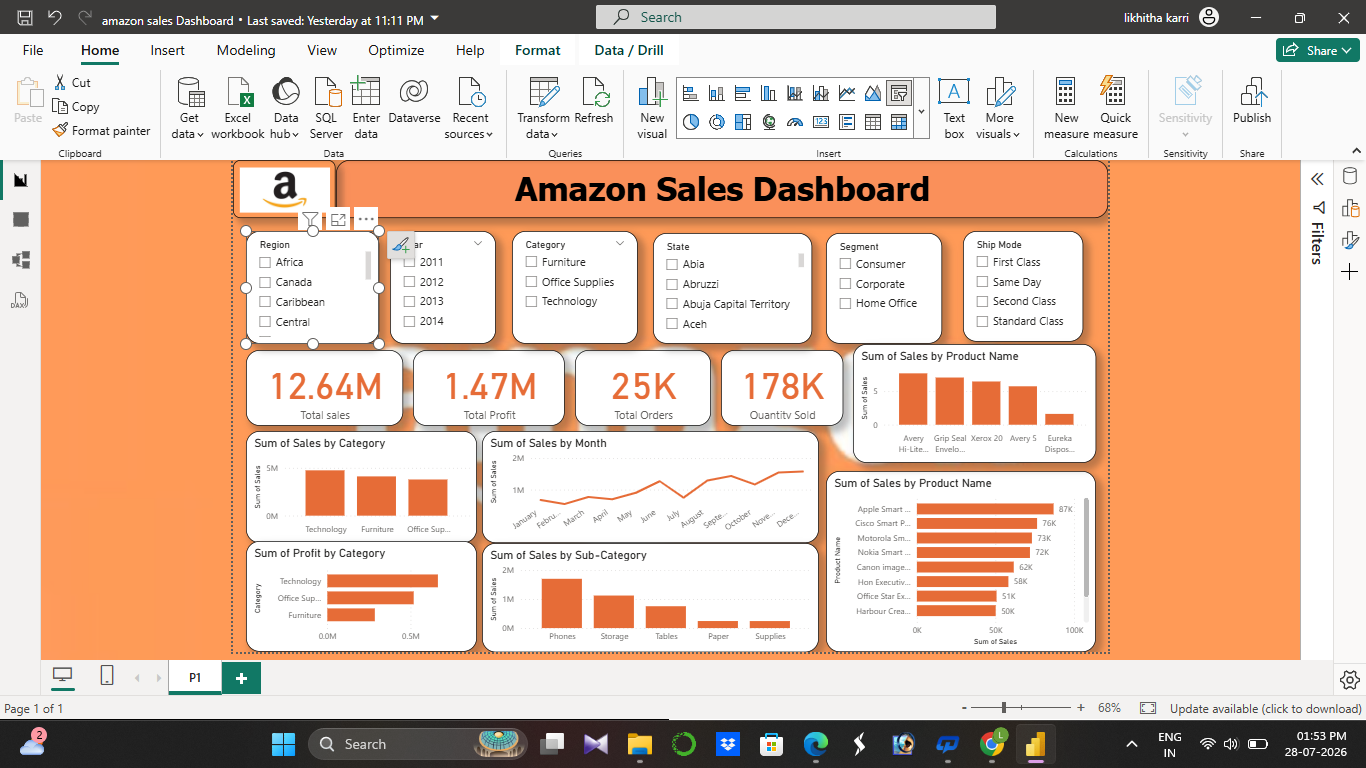

The page's visual inventory and layout, read from the dashboard file:
{"tool":"powerbi","page":{"name":"P1","canvas":[1280,720],"ordinal":0},"visuals":[{"type":"textbox","box":[150,0,1129.7,85.1],"z":0},{"type":"image","box":[0,0,150,85.1],"z":1000},{"type":"card","fields":{"Values":["Orders.Total sales"]},"box":[19,278,229.8,111.2],"z":2000},{"type":"card","fields":{"Values":["Orders.Total Profit"]},"box":[263.4,278,222.4,111.2],"z":3000},{"type":"card","fields":{"Values":["Orders.Total Orders"]},"box":[500.5,278,199,111.2],"z":4000},{"type":"card","fields":{"Values":["Orders.Quantity Sold"]},"box":[714.1,278,178.5,111.2],"z":5000},{"type":"clusteredColumnChart","fields":{"Category":["Orders.Category"],"Y":["Sum(Orders.Sales)"]},"box":[19,396.6,338,163.9],"z":6000},{"type":"barChart","fields":{"Y":["Sum(Orders.Profit)"],"Category":["Orders.Category"]},"box":[19,557.6,338,162.4],"z":7000},{"type":"lineChart","fields":{"Y":["Sum(Orders.Sales)"],"Category":["Orders.Order Date.Variation.Date Hierarchy.Month"]},"box":[364.4,396.6,493.2,163.9],"z":8000},{"type":"slicer","fields":{"Values":["Orders.Region"]},"box":[19,103.9,194.6,165.4],"z":9000},{"type":"slicer","fields":{"Values":["Orders.Order Date.Variation.Date Hierarchy.Year"]},"box":[229.8,103.9,155.1,165.4],"z":10000},{"type":"slicer","fields":{"Values":["Orders.Category"]},"box":[408.3,103.9,184.4,165.4],"z":11000},{"type":"slicer","fields":{"Values":["Orders.State"]},"box":[614.6,106.8,232.7,162.4],"z":12000},{"type":"slicer","fields":{"Values":["Orders.Segment"]},"box":[867.8,106.8,169.8,162.4],"z":13000},{"type":"slicer","fields":{"Values":["Orders.Ship Mode"]},"box":[1068.3,103.9,175.6,162.4],"z":14000},{"type":"clusteredColumnChart","fields":{"Y":["Sum(Orders.Sales)"],"Category":["Orders.Sub-Category"]},"box":[364.4,560.5,493.2,159.5],"z":15000},{"type":"barChart","fields":{"Y":["Sum(Orders.Sales)"],"Category":["Orders.Product Name"]},"box":[867.8,455.1,395.1,264.9],"z":16000},{"type":"columnChart","fields":{"Y":["Sum(Orders.Sales)"],"Category":["Orders.Product Name"]},"box":[907.3,269.3,355.6,174.1],"z":17000}]}

Visuals, with their boxes on the page's 1280x720 design canvas (x1, y1, x2, y2). These are canvas units, not pixel positions in the 1366x768 screenshot, which may show the page scaled, cropped or inside an application window:
textbox: l=150, t=0, r=1280, b=85
image: l=0, t=0, r=150, b=85
card - Orders.Total sales: l=19, t=278, r=249, b=389
card - Orders.Total Profit: l=263, t=278, r=486, b=389
card - Orders.Total Orders: l=500, t=278, r=700, b=389
card - Orders.Quantity Sold: l=714, t=278, r=893, b=389
clusteredColumnChart - Orders.Category x Sum(Orders.Sales): l=19, t=397, r=357, b=560
barChart - Sum(Orders.Profit) x Orders.Category: l=19, t=558, r=357, b=720
lineChart - Sum(Orders.Sales) x Orders.Order Date.Variation.Date Hierarchy.Month: l=364, t=397, r=858, b=560
slicer - Orders.Region: l=19, t=104, r=214, b=269
slicer - Orders.Order Date.Variation.Date Hierarchy.Year: l=230, t=104, r=385, b=269
slicer - Orders.Category: l=408, t=104, r=593, b=269
slicer - Orders.State: l=615, t=107, r=847, b=269
slicer - Orders.Segment: l=868, t=107, r=1038, b=269
slicer - Orders.Ship Mode: l=1068, t=104, r=1244, b=266
clusteredColumnChart - Sum(Orders.Sales) x Orders.Sub-Category: l=364, t=560, r=858, b=720
barChart - Sum(Orders.Sales) x Orders.Product Name: l=868, t=455, r=1263, b=720
columnChart - Sum(Orders.Sales) x Orders.Product Name: l=907, t=269, r=1263, b=443
